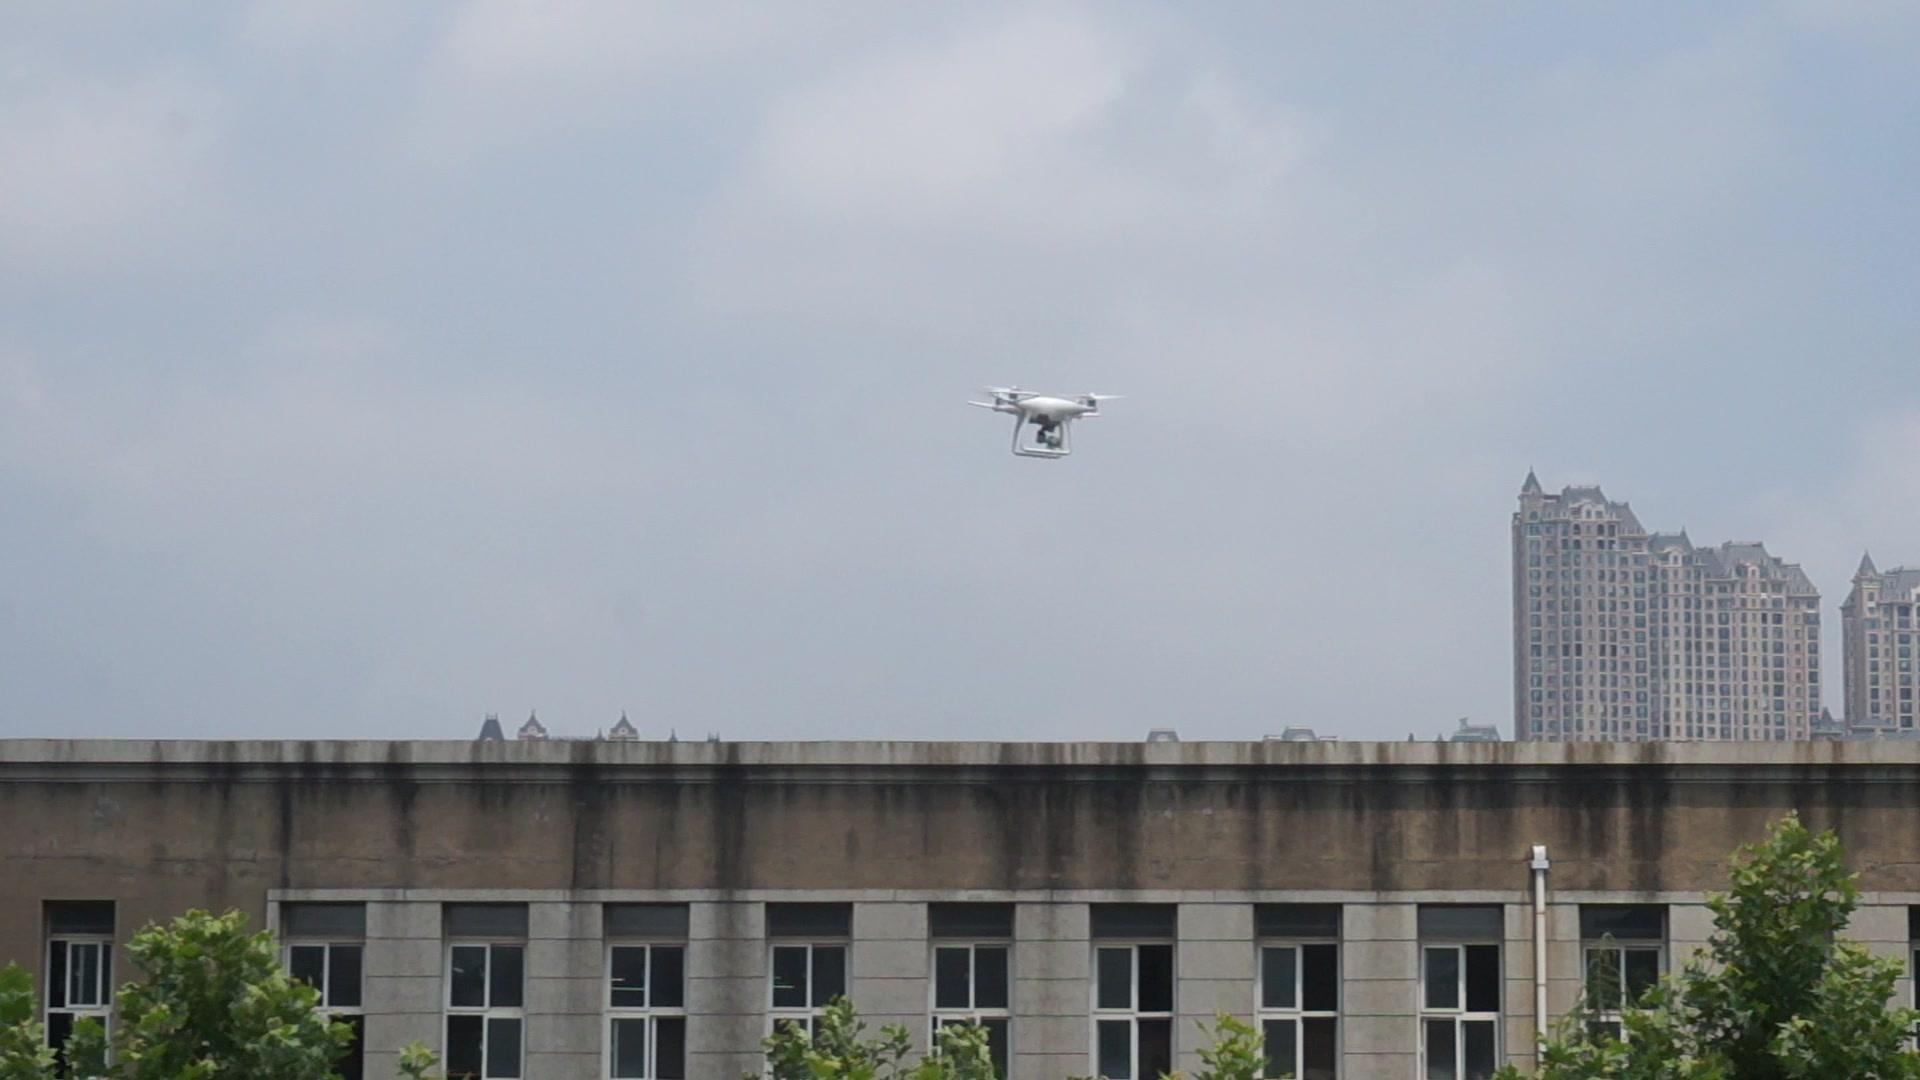UAV: (968, 386, 1124, 460)
